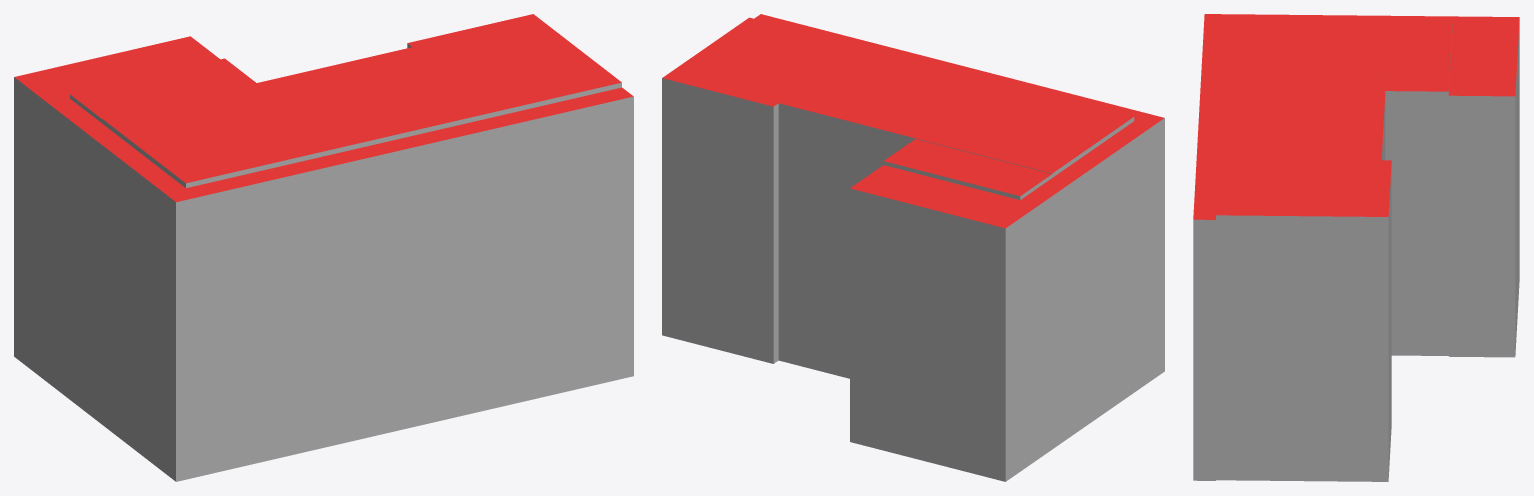
File: DEBE3D04YY50000OS8.dae
The picture shows the model from 3 angles, left to right: view 1: azimuth 30°, elevation 25°; view 2: azimuth 150°, elevation 25°; view 3: azimuth 270°, elevation 25°; orthographic projection. The views are drawn at different scales.
Size of the model in its own units: 27.99 by 18.6 by 16.7.
